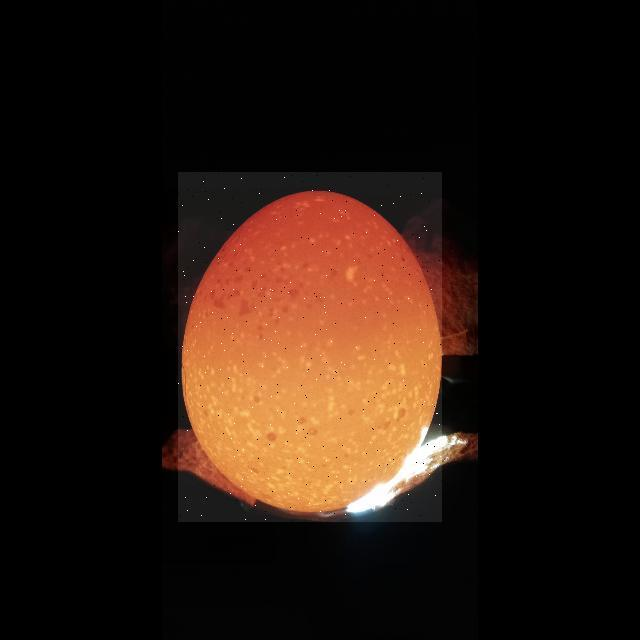A - Good: (178, 179, 441, 514)
